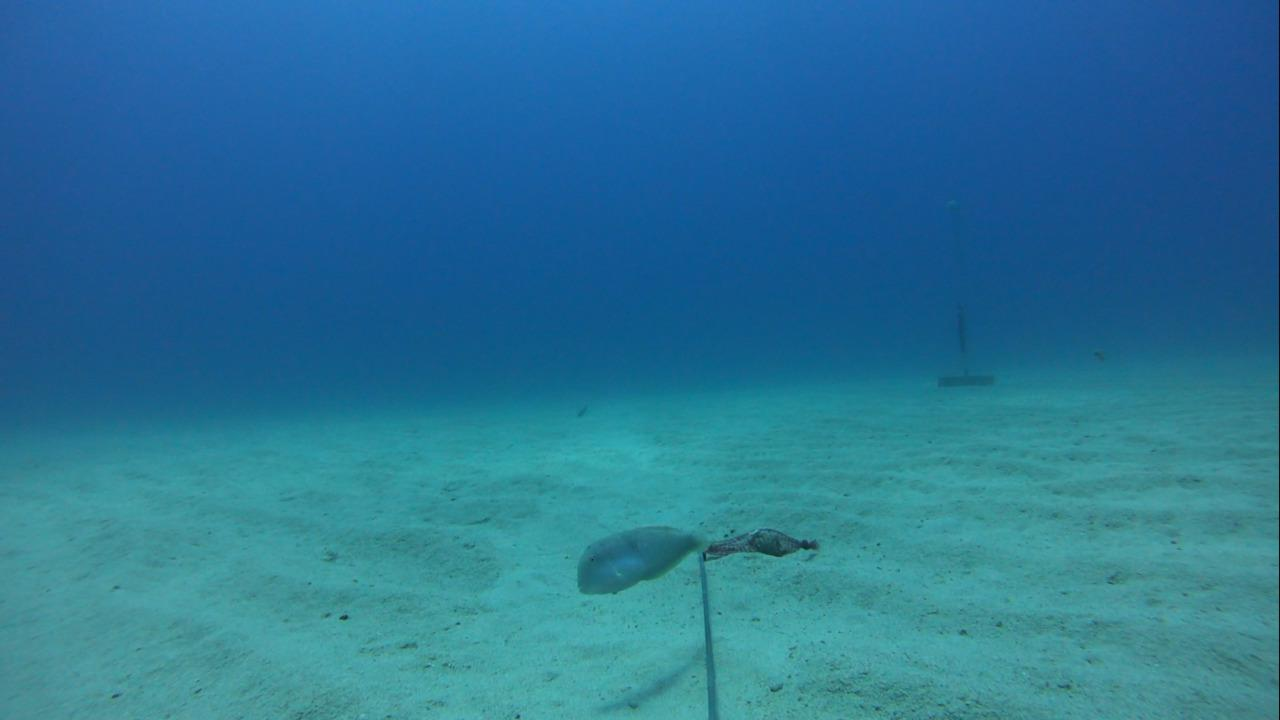raor: (565, 520, 716, 606)
